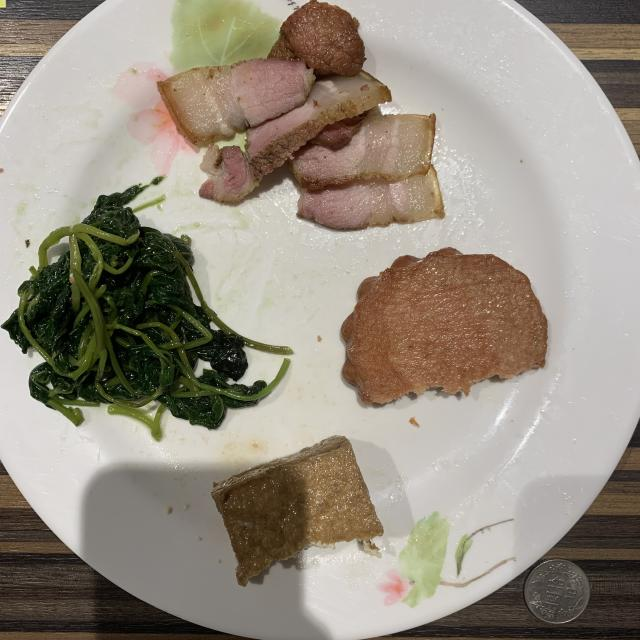Spam: (341, 248, 548, 404)
coin: (524, 560, 590, 624)
egg tofu: (211, 436, 384, 586)
grilled pork: (159, 0, 444, 229)
sweet potato leaves: (2, 176, 292, 440)
